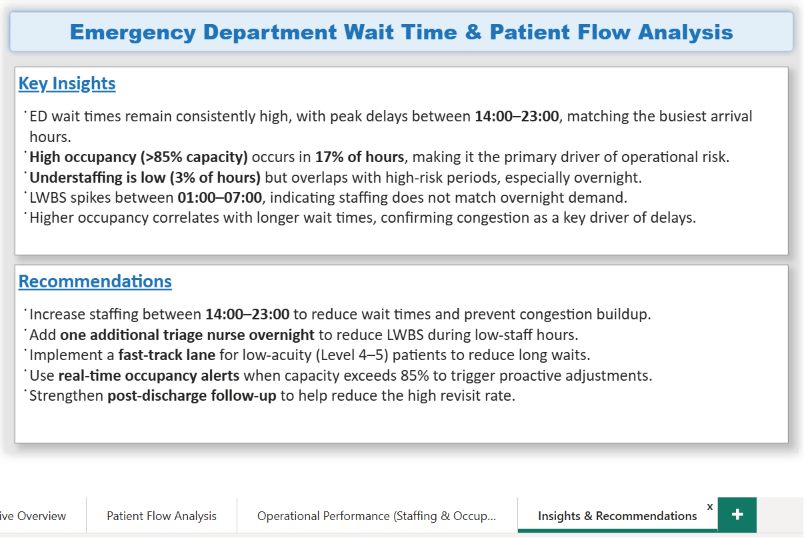

What the dashboard file says about the page in this screenshot:
{"tool":"powerbi","page":{"name":"Insights & Recommendations","canvas":[1280,720],"ordinal":3},"visuals":[{"type":"textbox","box":[16,96,1248,304],"z":0},{"type":"shape","box":[0,0,1280,80],"z":1000},{"type":"textbox","box":[16,416,1248,288],"z":2000}]}

Visuals, with their boxes on the page's 1280x720 design canvas (x1, y1, x2, y2). These are canvas units, not pixel positions in the 804x538 screenshot, which may show the page scaled, cropped or inside an application window:
textbox: <box>16,96,1264,400</box>
shape: <box>0,0,1280,80</box>
textbox: <box>16,416,1264,704</box>
